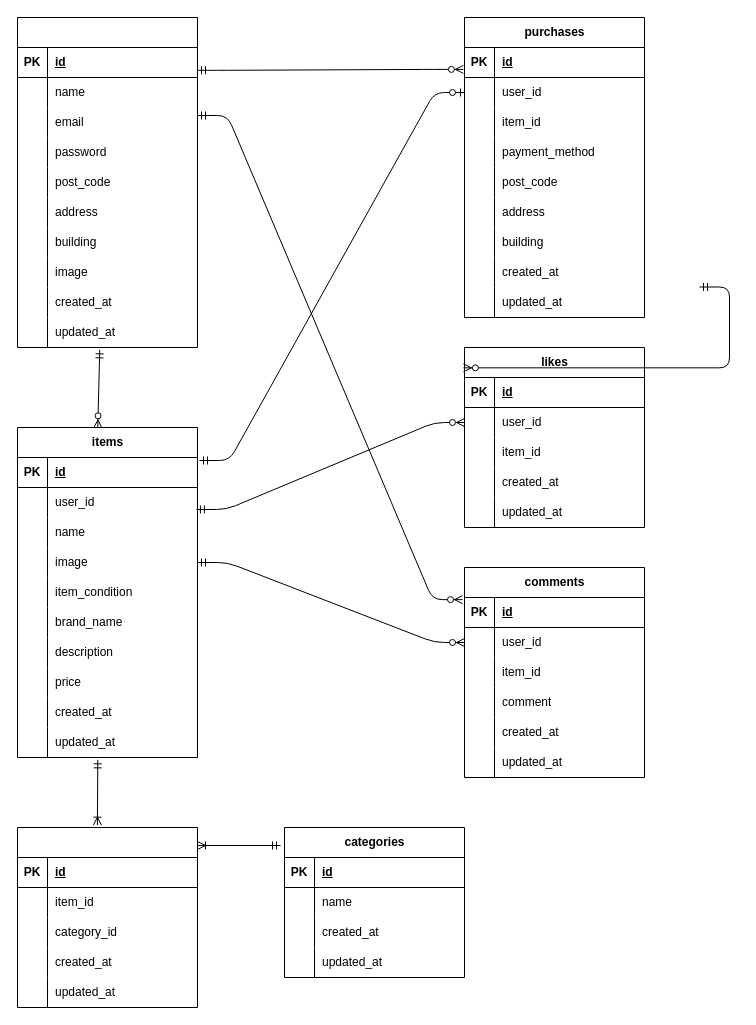
The diagram is 756 pixels wide and 1025 high, and some of its shapes have lost their labels. Each missing label, with the box of its shape:
category_item: (16, 826, 198, 1008)
users: (16, 16, 198, 348)
